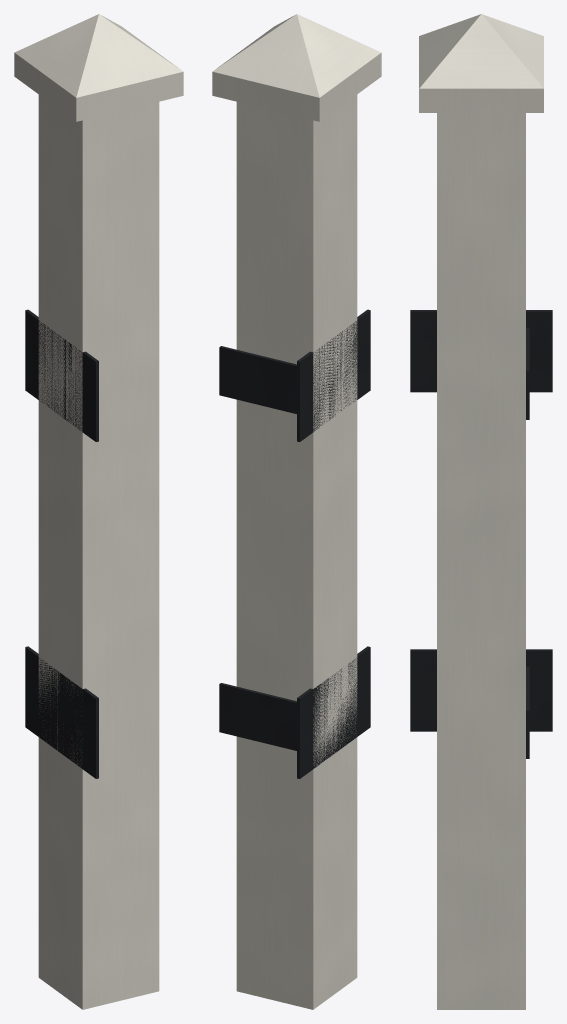
File: fence_picket_end_post.gltf
3 renders of one model, left to right at view 1: azimuth 30°, elevation 25°; view 2: azimuth 150°, elevation 25°; view 3: azimuth 270°, elevation 25°, orthographic.
Parts seen in each view (by area): view 1: fence_picket_end_post; view 2: fence_picket_end_post; view 3: fence_picket_end_post.
Part boxes in pixels (box(x1,y1,x2,y2)): fence_picket_end_post: box(14, 14, 183, 1009); fence_picket_end_post: box(212, 14, 381, 1009); fence_picket_end_post: box(410, 14, 552, 1009).
Bounding box in the file's own units: 0.14 × 1.21 × 0.16.
Materials: 2 (2 with a texture image).
